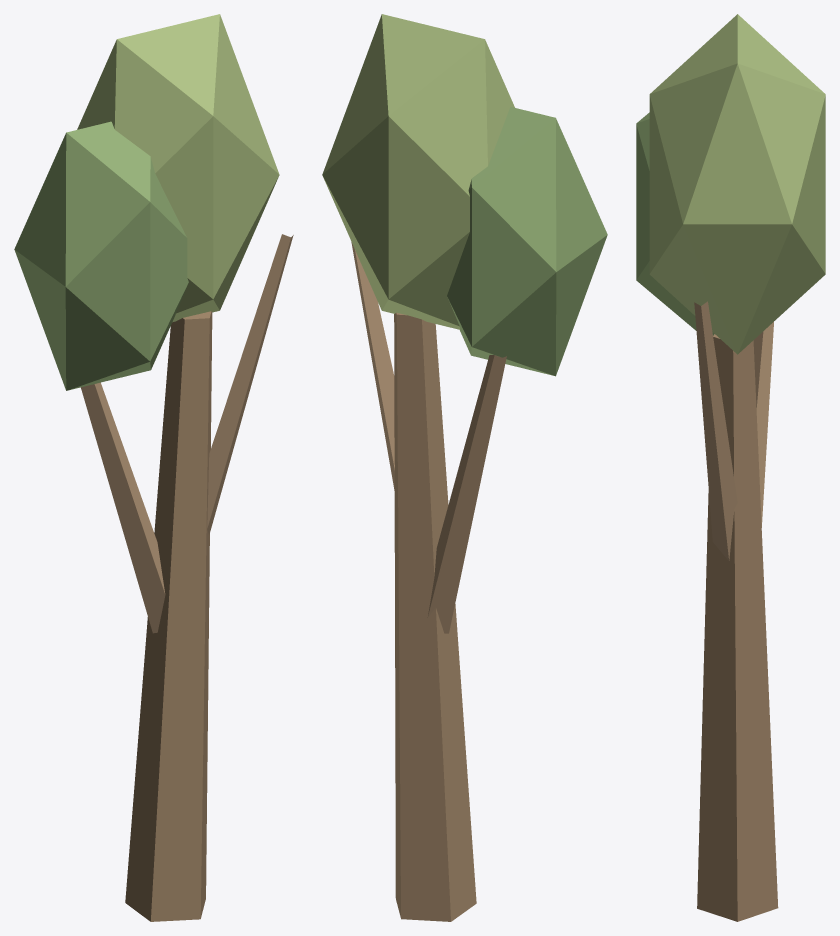
The picture shows the model from 3 angles, left to right: view 1: azimuth 30°, elevation 25°; view 2: azimuth 150°, elevation 25°; view 3: azimuth 270°, elevation 25°; orthographic projection.
Visible parts, largest first — view 1: Body; view 2: Body; view 3: Body.
Part boxes in pixels (x1,y1,x2,y2): Body: [14, 14, 293, 921]; Body: [322, 14, 607, 921]; Body: [636, 14, 825, 921].
Bounding box in the file's own units: 1.82 × 6.27 × 1.24.
